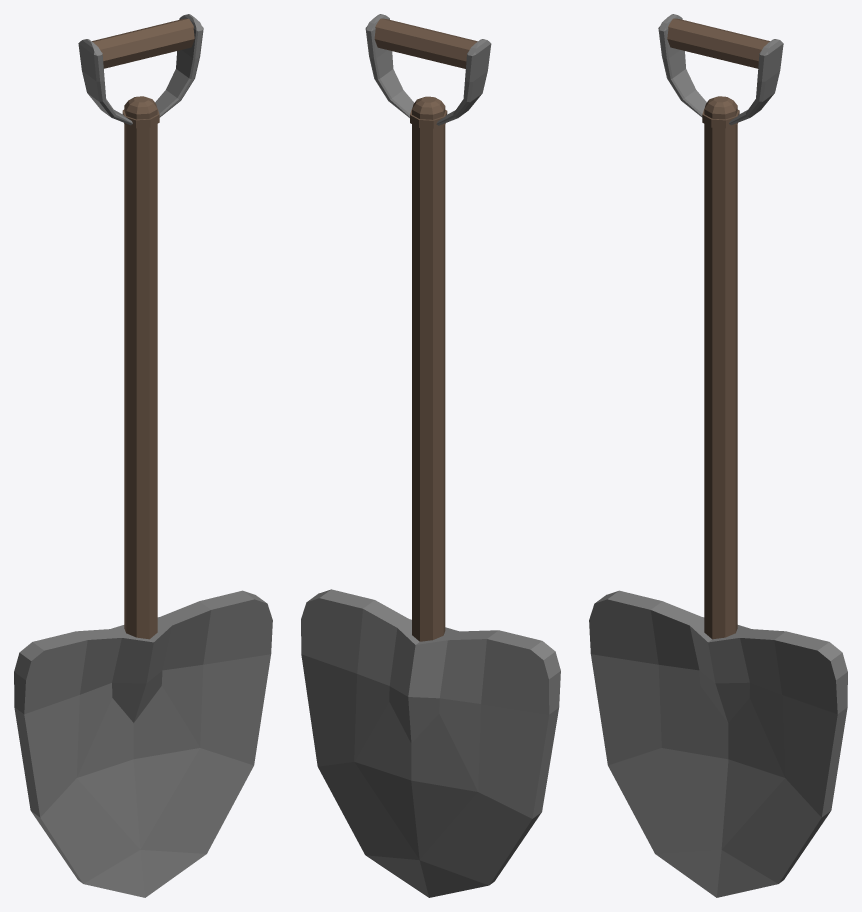
The model's file is Shovel.fbx.
3 renders of one model, left to right at view 1: azimuth 30°, elevation 25°; view 2: azimuth 150°, elevation 25°; view 3: azimuth 330°, elevation 25°, orthographic.
Visible parts, largest first — view 1: Shovel; view 2: Shovel; view 3: Shovel.
Boxes of the visible parts, left/top/right/bottom form: Shovel: left=14, top=14, right=272, bottom=897; Shovel: left=301, top=14, right=560, bottom=897; Shovel: left=589, top=14, right=847, bottom=897.
Bounding box in the file's own units: 75.59 × 253 × 17.53.
